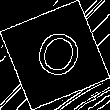O_SW: (25, 23, 85, 87)
